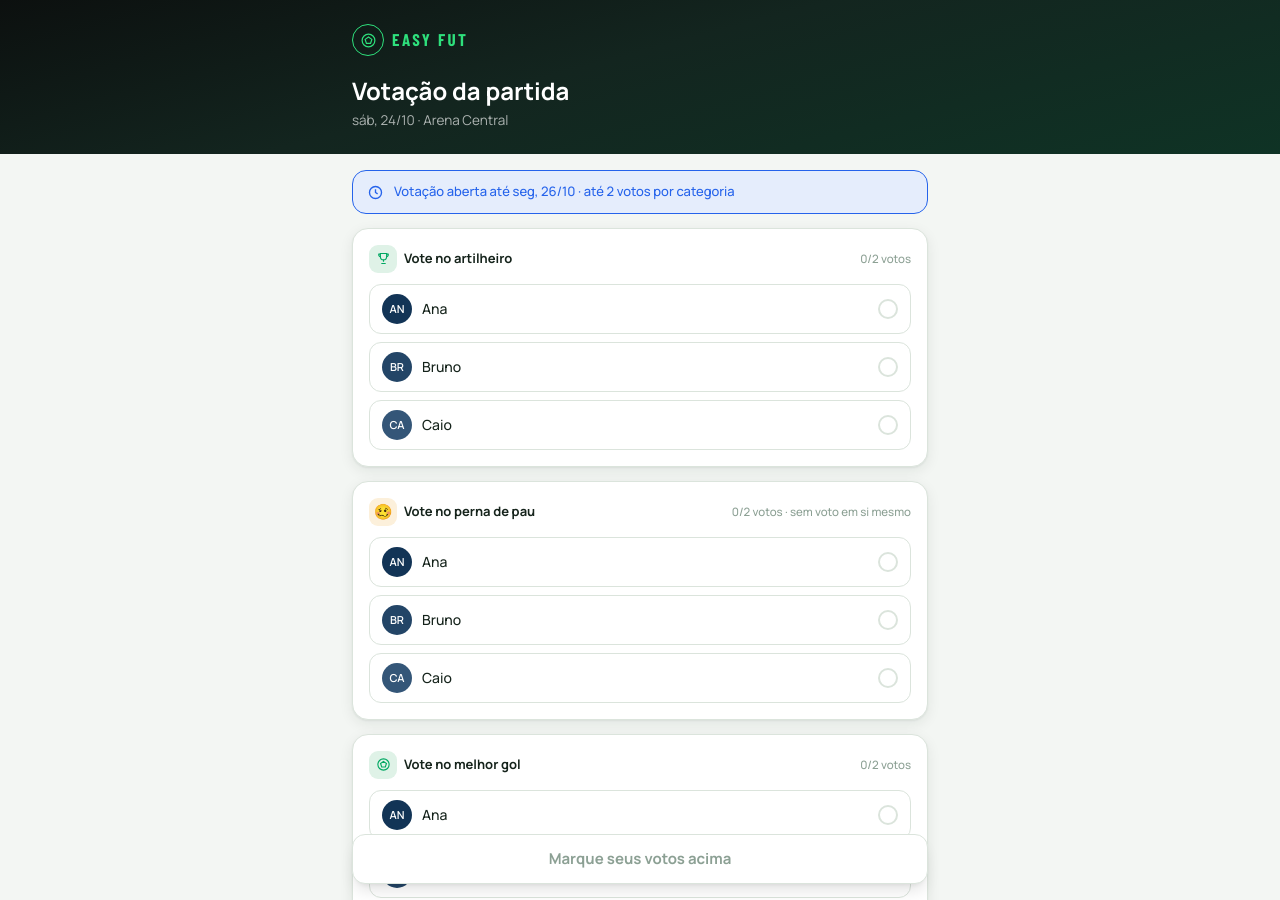
Test: /votar/:token › 410 ao enviar troca a tela para votação encerrada
Step 1. Click the button "AN Ana" below "Vote no artilheiro" → (397,309), box [369,284,911,334]
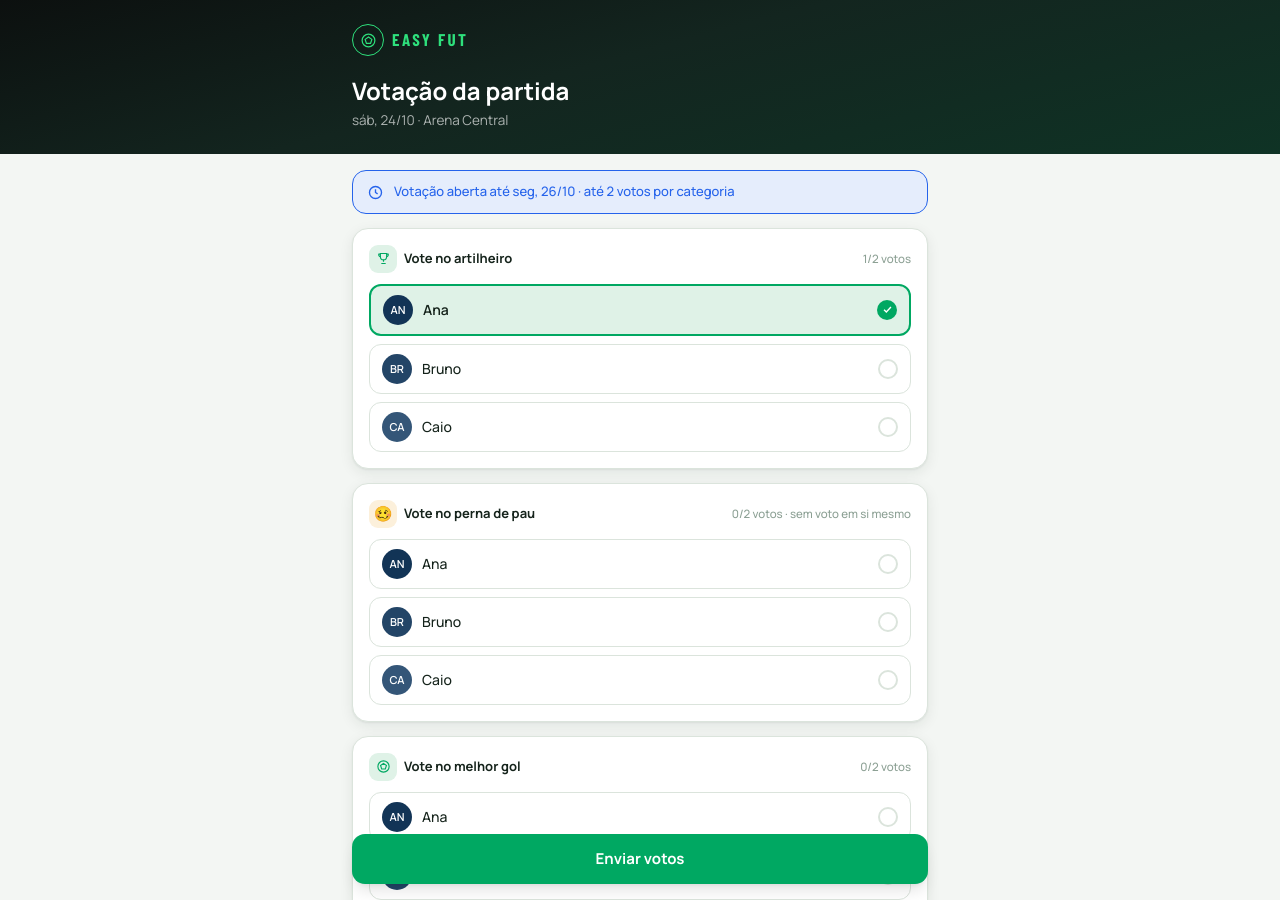
Step 2. Click the button "Enviar votos" → (640,859), box [352,834,928,884]
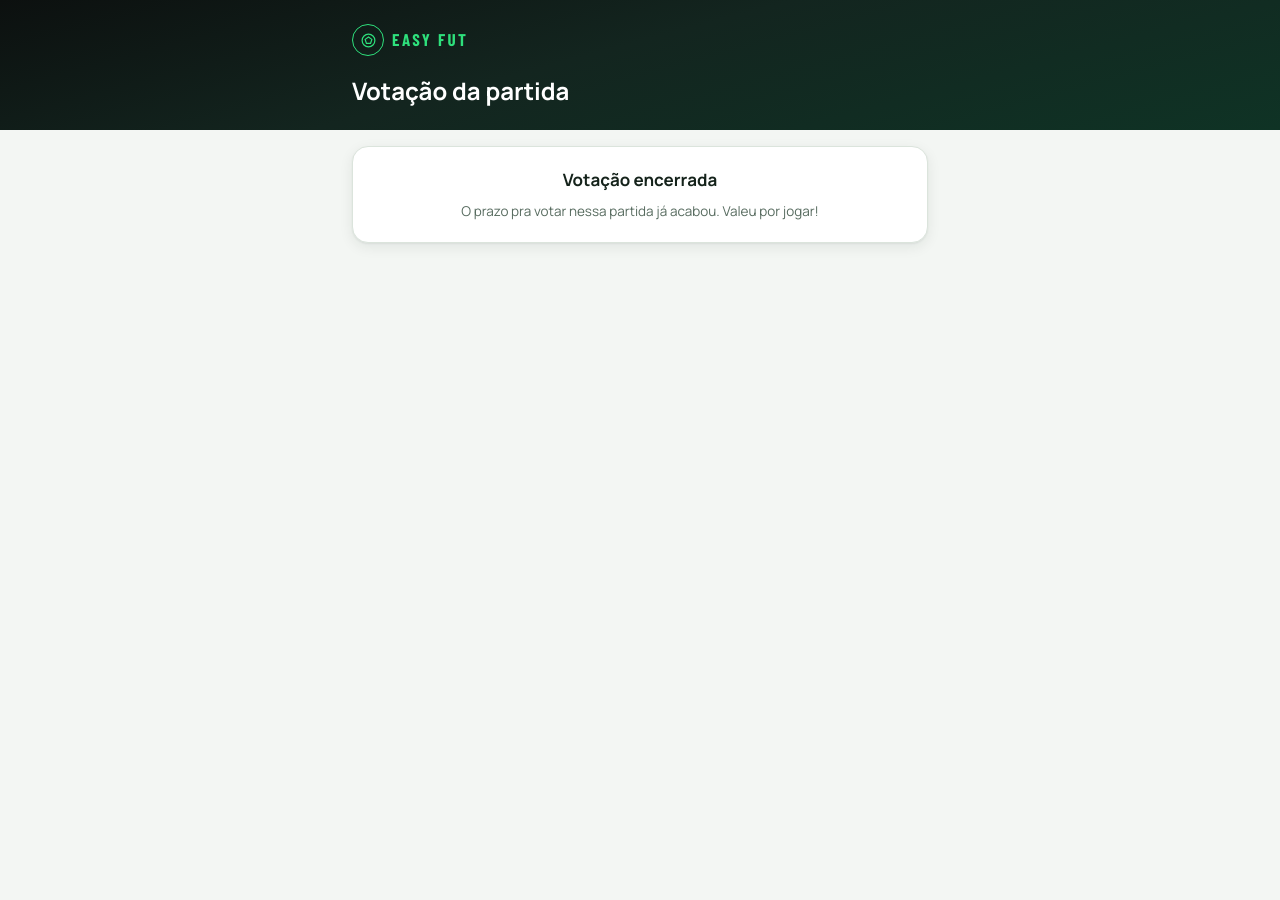
Check: the element with test id "closed" is shown, box [352,146,928,243]
